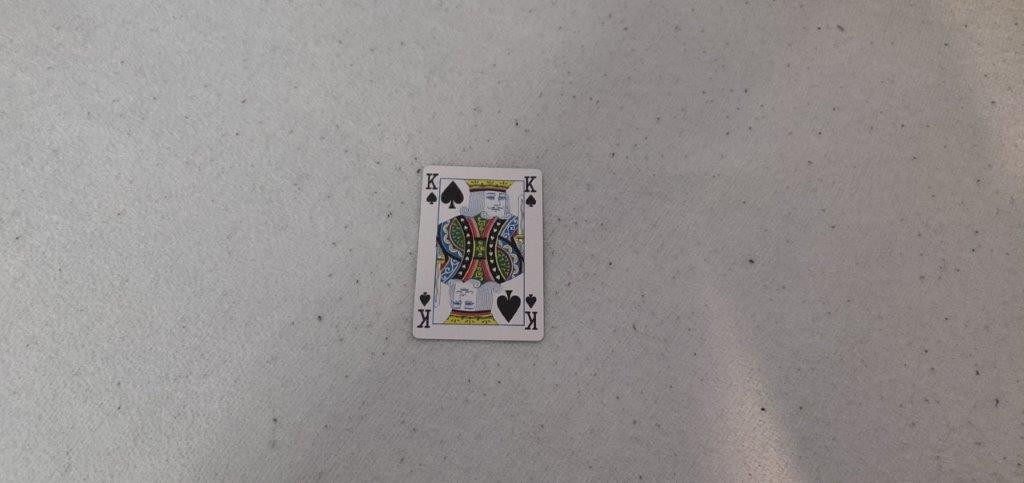KS: (420, 169, 442, 208), (520, 172, 539, 213)
